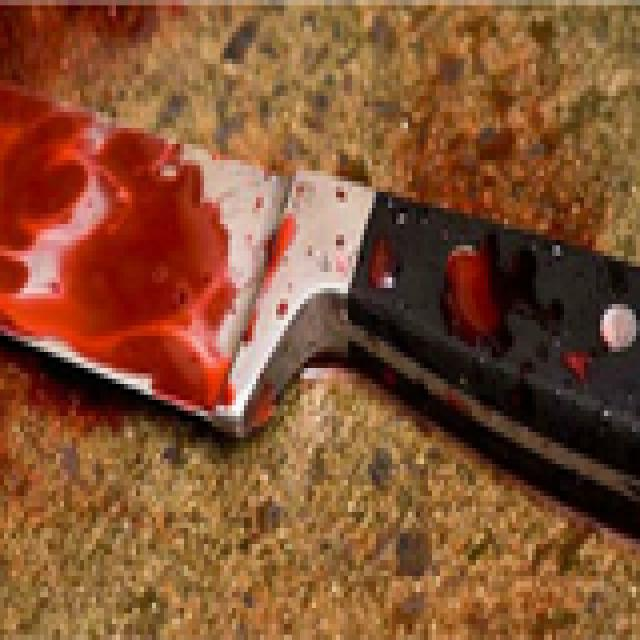Knife: (14, 66, 622, 487)
